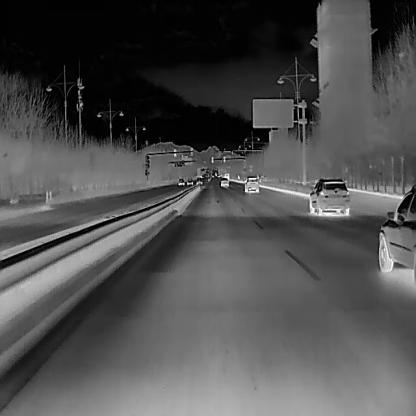bus: (223, 170, 229, 178)
car: (377, 183, 415, 279), (308, 176, 350, 216), (244, 172, 257, 193), (218, 179, 230, 187), (177, 177, 183, 185), (186, 177, 192, 185), (196, 177, 202, 185)
